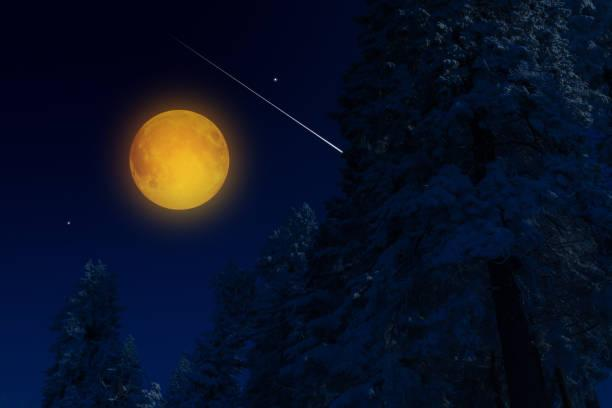meteor: (326, 136, 353, 159)
